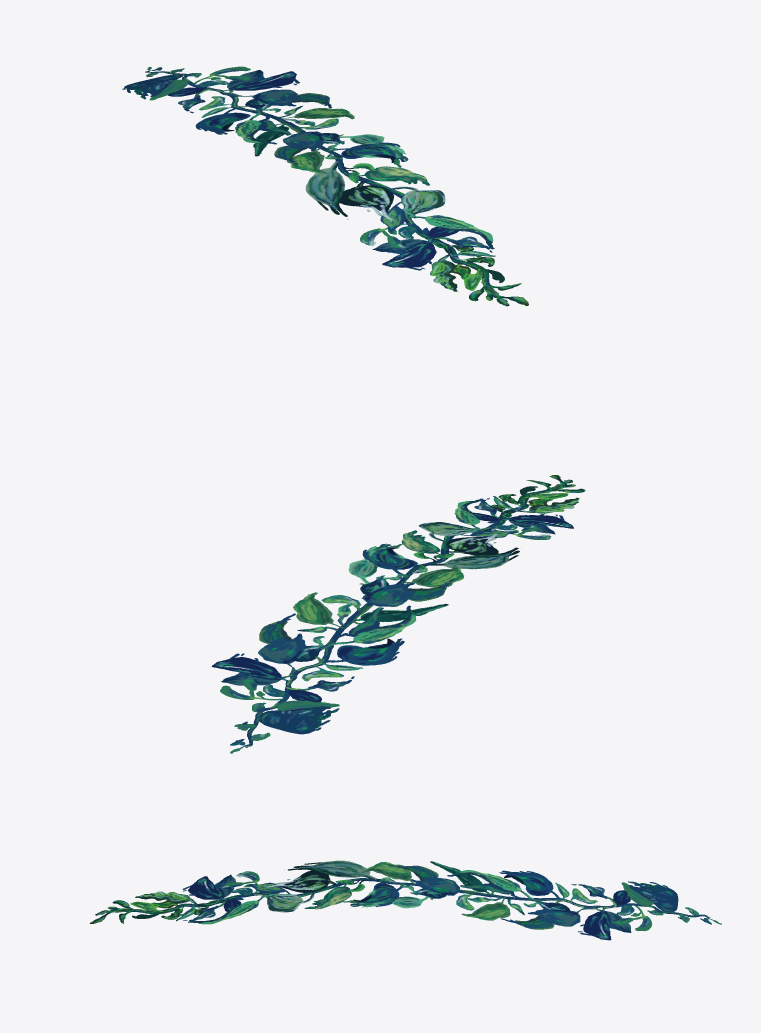
The model's file is LIA.fbx.
3 views of the same model, one above another, from view 1: azimuth 30°, elevation 25°; view 2: azimuth 150°, elevation 25°; view 3: azimuth 270°, elevation 25° (orthographic). The views are drawn at different scales.
Visible parts, largest first — view 1: pPlane3; view 2: pPlane3; view 3: pPlane3.
Part boxes in pixels (bbox=[...]): pPlane3: bbox=[122, 66, 528, 306]; pPlane3: bbox=[211, 475, 585, 753]; pPlane3: bbox=[90, 860, 721, 940].
Bounding box in the file's own units: 0.4563 × 0.0742 × 1.
